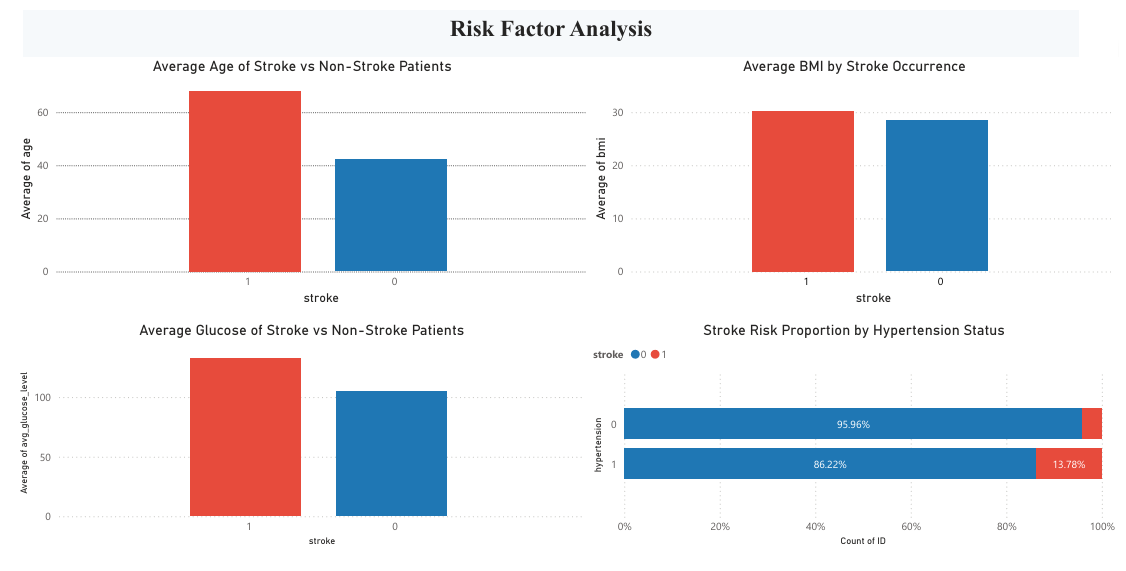

Layout of this report page (visuals, bound fields, positions):
{"tool":"powerbi","page":{"name":"Risk Factor Analysis","canvas":[1280,720],"ordinal":1},"visuals":[{"type":"textbox","box":[10,0,1224,54],"z":0},{"type":"clusteredColumnChart","title":"Average Age of Stroke vs Non-Stroke Patients","fields":{"Category":["stroke_data.stroke"],"Y":["Avg(stroke_data.age)"]},"box":[0,54.4,666.7,291.2],"z":1000},{"type":"clusteredColumnChart","title":"Average Glucose of Stroke vs Non-Stroke Patients","fields":{"Y":["Avg(stroke_data.avg_glucose_level)"],"Category":["stroke_data.stroke"]},"box":[0,360,666.2,266.2],"z":2000},{"type":"clusteredColumnChart","title":"Average BMI by Stroke Occurrence","fields":{"Category":["stroke_data.stroke"],"Y":["Avg(stroke_data.bmi)"]},"box":[666.7,54.4,614,291.2],"z":3000},{"type":"hundredPercentStackedBarChart","title":"Stroke Risk Proportion by Hypertension Status","fields":{"Category":["stroke_data.hypertension"],"Y":["Count(stroke_data.ID)"],"Series":["stroke_data.stroke"]},"box":[666.2,360,615,266.2],"z":4000},{"type":"cardVisual","box":[517.5,105,300,300],"z":5000}]}

Visuals, with their boxes on the page's 1280x720 design canvas (x1, y1, x2, y2). These are canvas units, not pixel positions in the 1126x571 screenshot, which may show the page scaled, cropped or inside an application window:
textbox: [10,0,1234,54]
"Average Age of Stroke vs Non-Stroke Patients" clusteredColumnChart: [0,54,667,346]
"Average Glucose of Stroke vs Non-Stroke Patients" clusteredColumnChart: [0,360,666,626]
"Average BMI by Stroke Occurrence" clusteredColumnChart: [667,54,1281,346]
"Stroke Risk Proportion by Hypertension Status" hundredPercentStackedBarChart: [666,360,1281,626]
cardVisual: [518,105,818,405]
